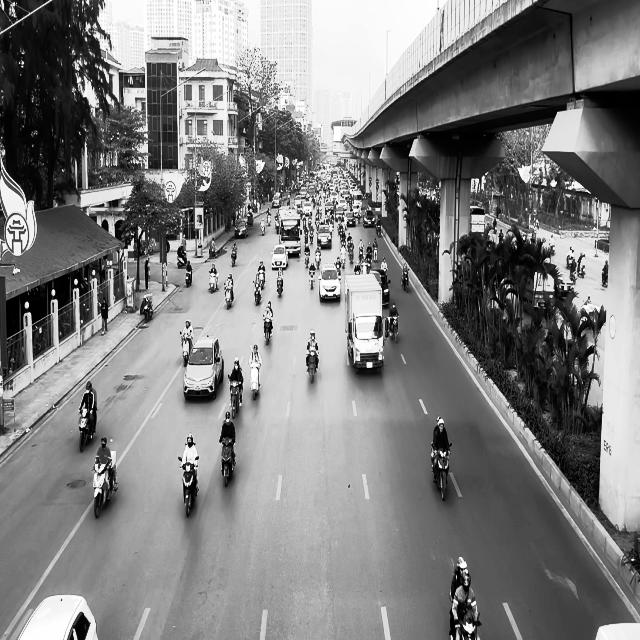car: (18, 594, 98, 639), (183, 335, 224, 400), (318, 263, 341, 302), (370, 269, 390, 306), (271, 244, 288, 269), (317, 225, 332, 248), (234, 219, 248, 238)
motorbike: (92, 449, 118, 518), (177, 455, 199, 517), (430, 441, 452, 501), (452, 604, 482, 640), (78, 407, 96, 453), (220, 437, 236, 487), (227, 374, 243, 419), (306, 343, 318, 383), (180, 330, 193, 366), (249, 361, 261, 400), (262, 314, 273, 346), (388, 314, 398, 342), (143, 296, 153, 321), (224, 283, 233, 309), (208, 270, 218, 292), (308, 262, 316, 288), (253, 279, 261, 305), (401, 268, 409, 291), (276, 274, 283, 297), (185, 266, 192, 287), (258, 270, 265, 289), (230, 251, 237, 267)
truck: (344, 273, 384, 375)
